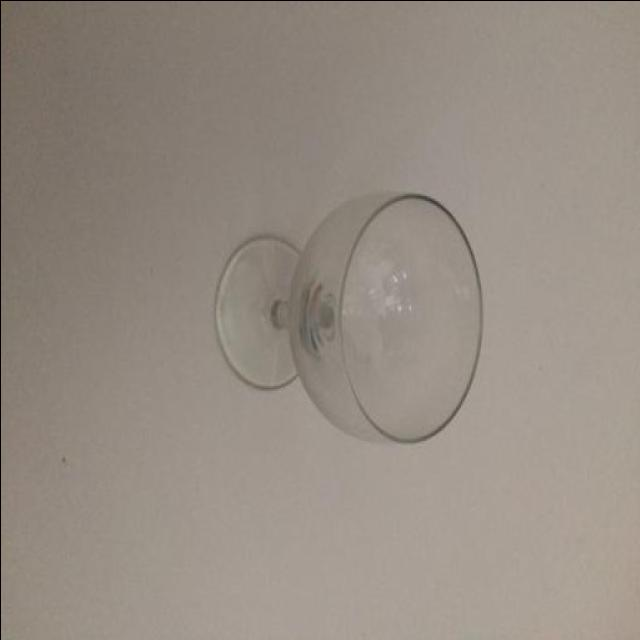glass: (192, 176, 502, 494)
